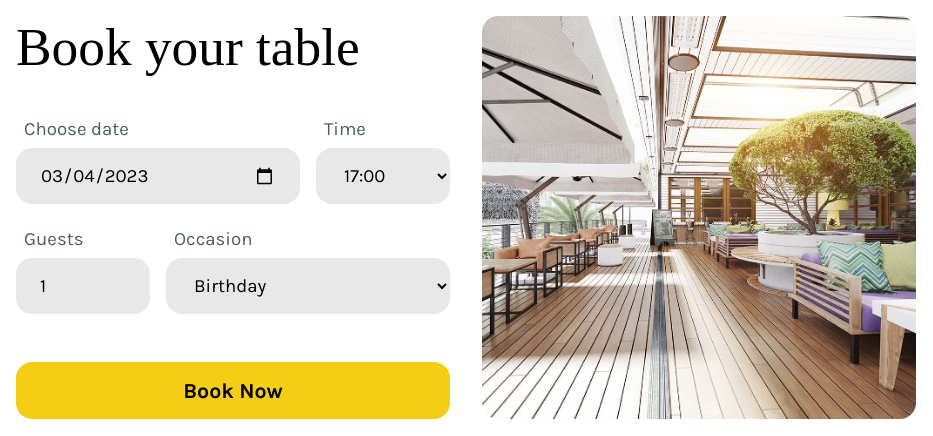
Booking form validation tests › Test date and submission validation
The width and height of the screenshot is (933, 436).
Type "2023-02-15" into the date field labelled "Choose date". click: (158, 176)
box: [16,148,300,204]
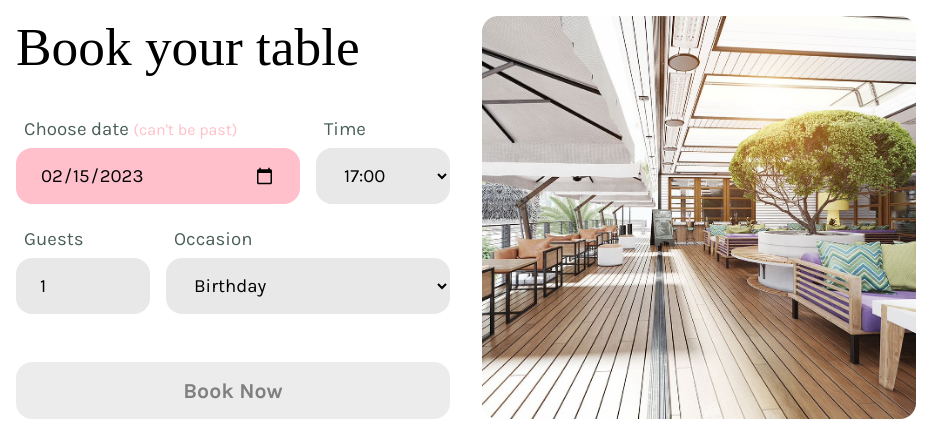
Expected: the button is disabled, [16,362,450,419]
